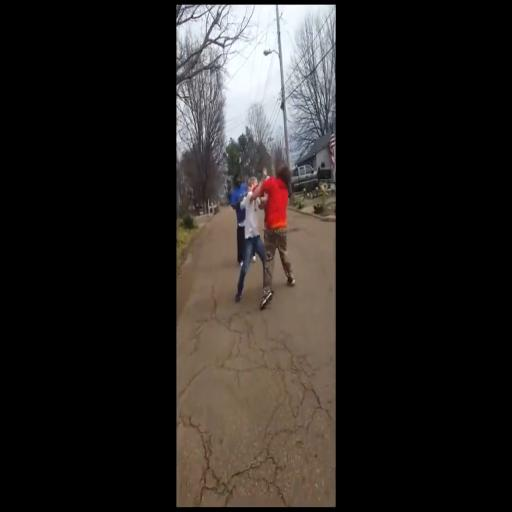violencia: (224, 162, 300, 314)
